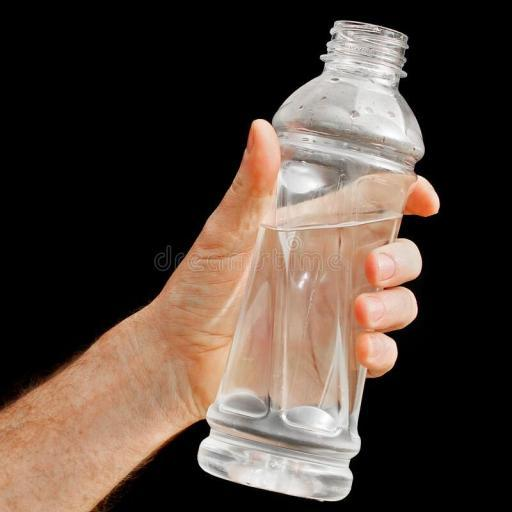bottle: (188, 13, 431, 508)
